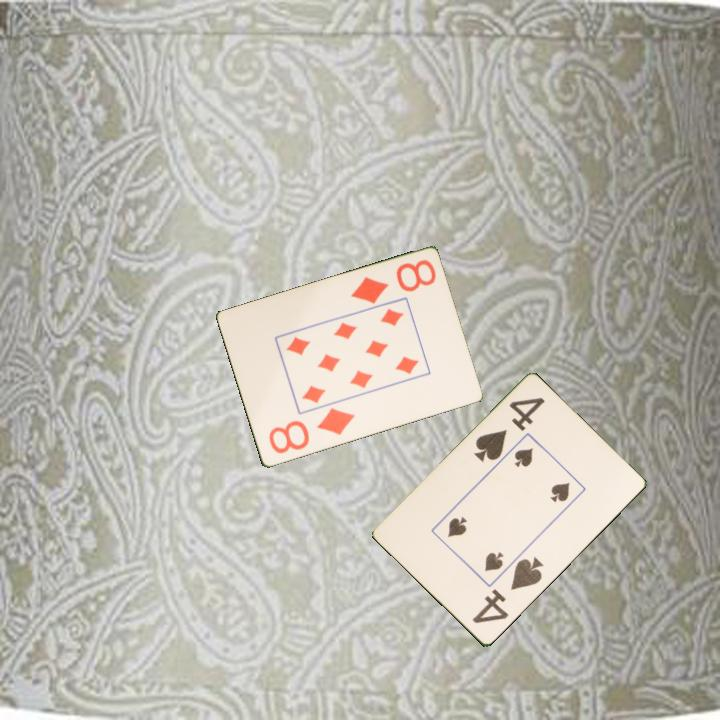4s: (469, 554, 546, 627), (470, 394, 548, 466)
8d: (265, 405, 358, 457), (347, 256, 439, 307)
